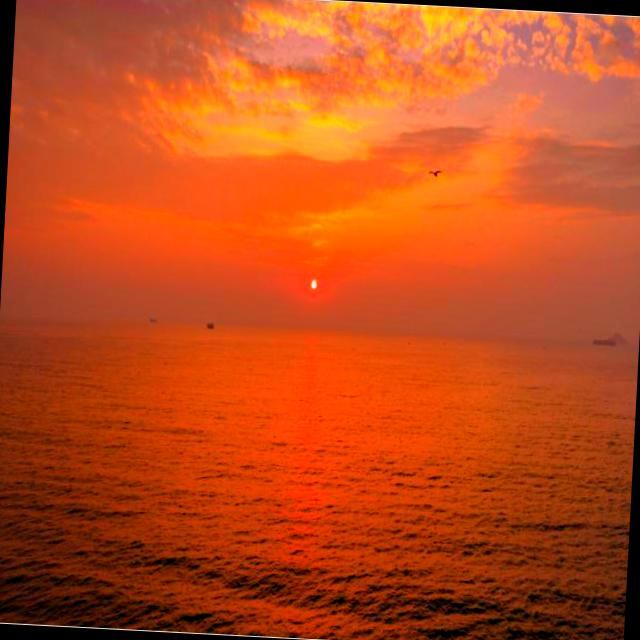bird: (423, 166, 448, 187)
